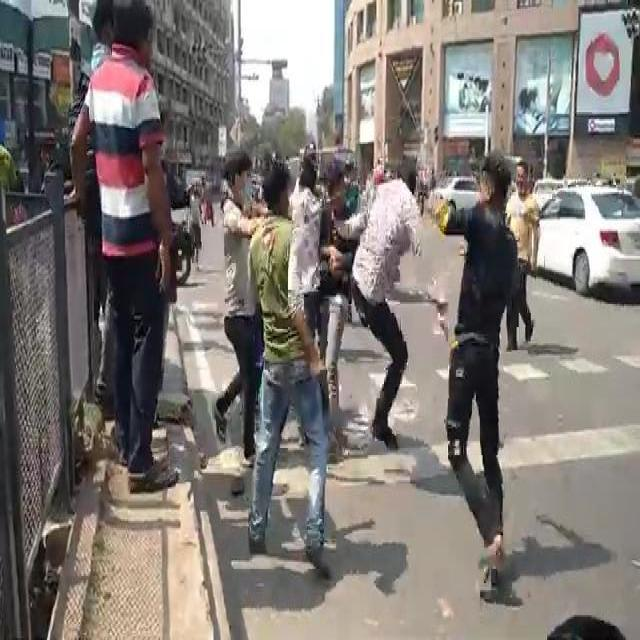fight: (217, 95, 420, 549), (74, 14, 188, 489), (436, 120, 516, 595)
